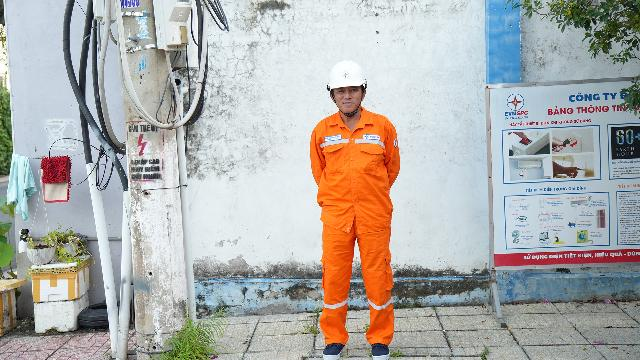helmet: (323, 56, 372, 102)
shoes: (315, 331, 358, 360), (360, 337, 399, 360)
